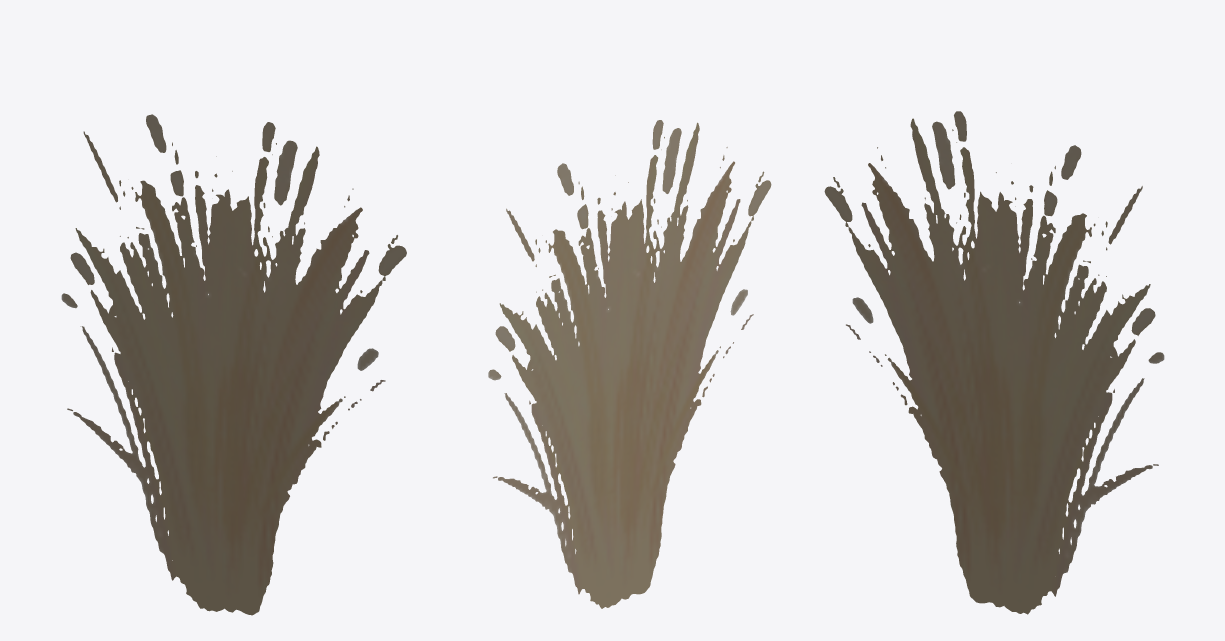
File: grass1.fbx
3 renders of one model, left to right at view 1: azimuth 90°, elevation 25°; view 2: azimuth 150°, elevation 25°; view 3: azimuth 270°, elevation 25°, orthographic. The views are drawn at different scales.
Parts seen in each view (by area): view 1: grass1; view 2: grass1; view 3: grass1.
Boxes of the visible parts, box(x1,y1,x2,y2) form: grass1: box(61, 114, 406, 615); grass1: box(488, 120, 771, 608); grass1: box(824, 111, 1164, 614).
Bounding box in the file's own units: 61.6 × 225 × 145.
